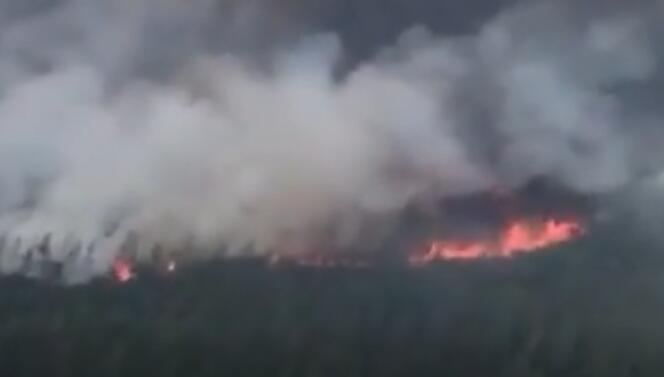fire: (411, 212, 594, 268), (112, 258, 140, 283)
smoke: (1, 0, 663, 265)
